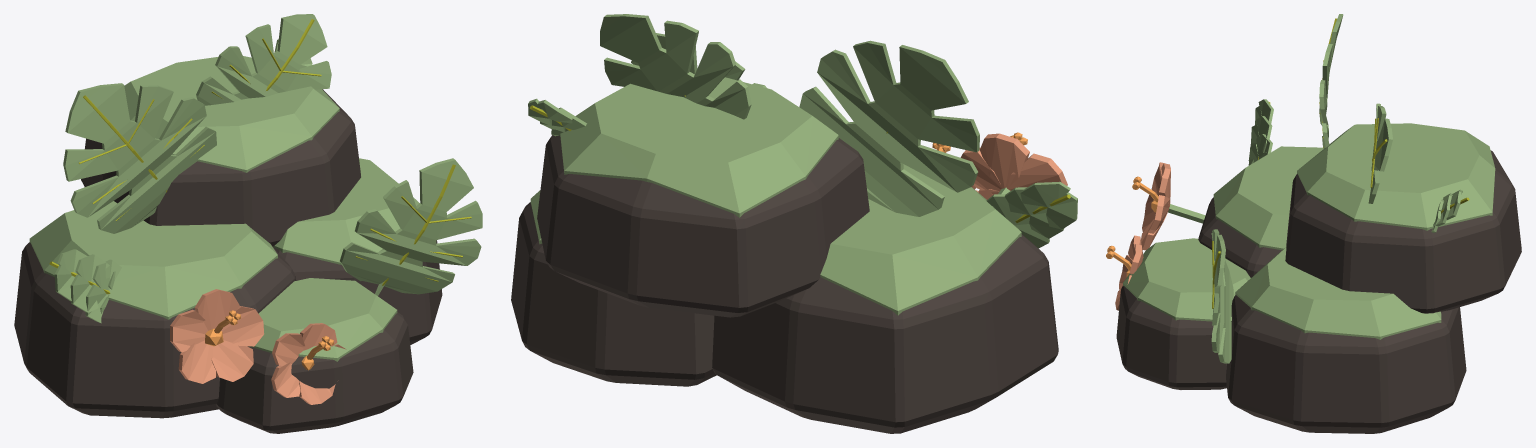
File: waterfallJungle.glb
3 renders of one model, left to right at view 1: azimuth 30°, elevation 25°; view 2: azimuth 150°, elevation 25°; view 3: azimuth 270°, elevation 25°, orthographic. The views are drawn at different scales.
Visible parts, largest first — view 1: waterfallJungle; view 2: waterfallJungle; view 3: waterfallJungle.
Part boxes in pixels (x1=…): waterfallJungle: x1=14, y1=14, x2=482, y2=433; waterfallJungle: x1=511, y1=14, x2=1077, y2=433; waterfallJungle: x1=1106, y1=14, x2=1521, y2=433.
Bounding box in the file's own units: 2.8 × 1.9 × 2.6.
Materials: 1 (1 with a texture image).
